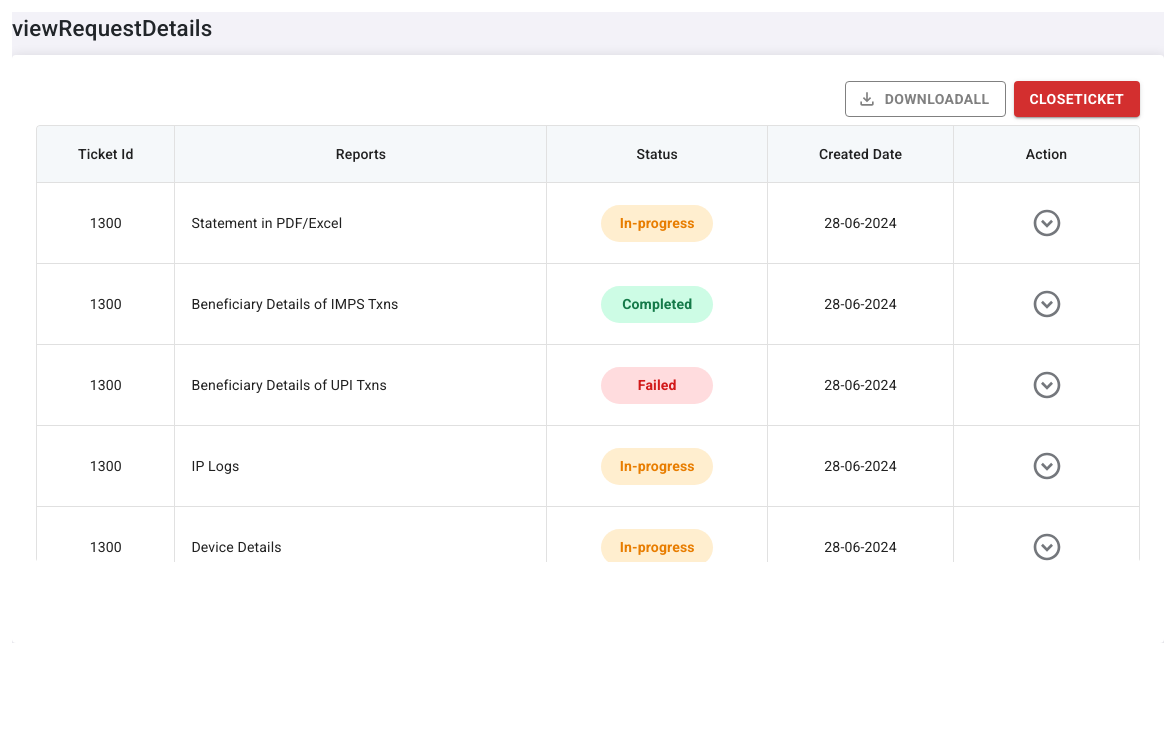
Sub-Request Expand Button Functionality check
Click the button with test id "accordion-displayer-0": (1046, 223) [1022,199,1070,247]
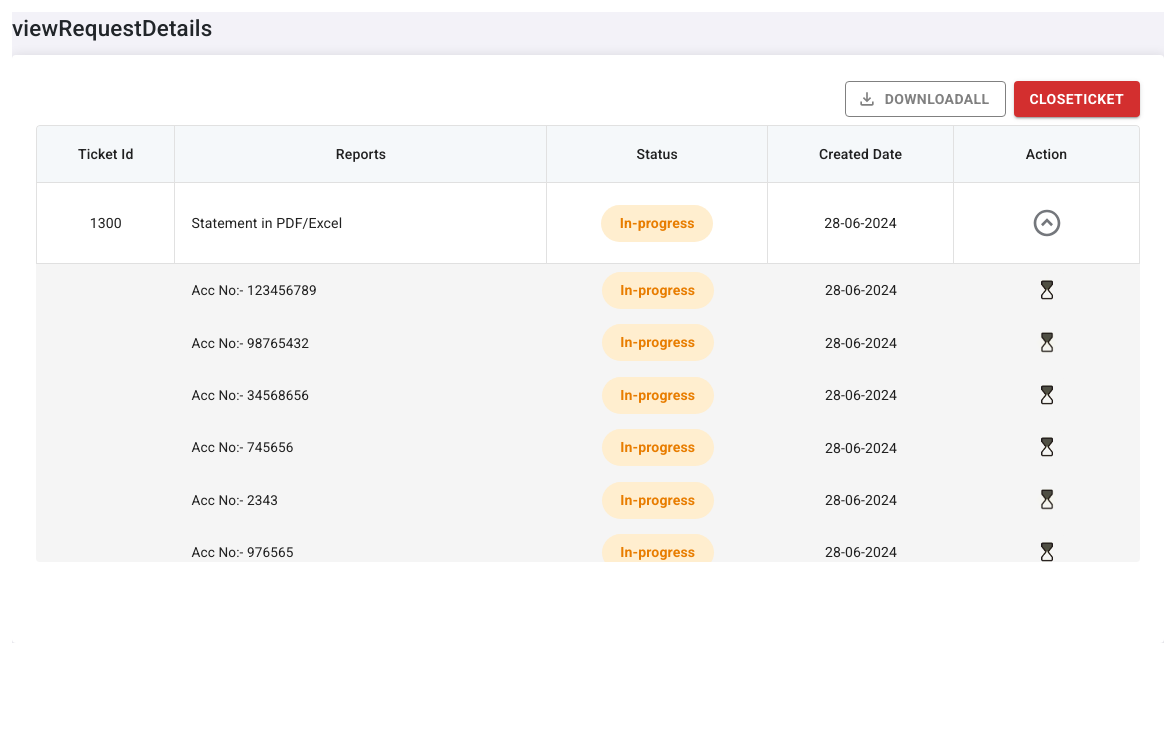
Check: the row with test id "sub-data-display-0" is shown, box [36,264,1140,317]
